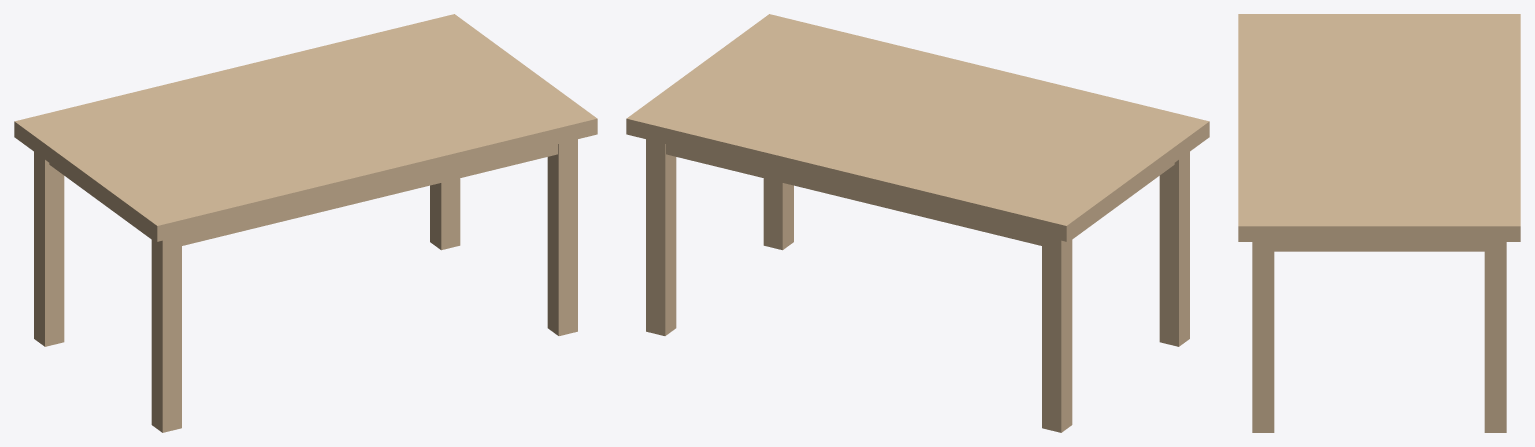
Rendered from TABLE001.glb.
The picture shows the model from 3 angles, left to right: view 1: azimuth 30°, elevation 25°; view 2: azimuth 150°, elevation 25°; view 3: azimuth 270°, elevation 25°; orthographic projection.
Visible parts, largest first — view 1: FurnitureRoot; view 2: FurnitureRoot; view 3: FurnitureRoot.
Boxes of the visible parts, x1,y1,x2,y2 form: FurnitureRoot: (14, 14, 597, 432); FurnitureRoot: (626, 14, 1209, 432); FurnitureRoot: (1238, 14, 1520, 432).
Bounding box in the file's own units: 160 × 74.75 × 90.
